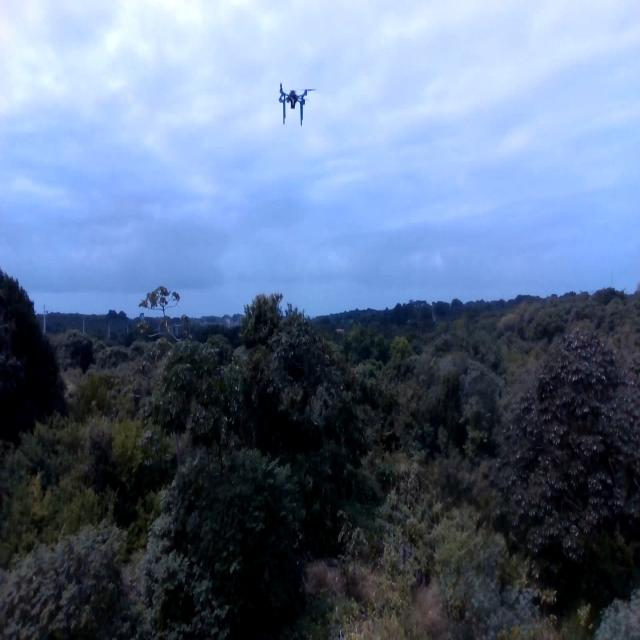-uav-: (274, 74, 319, 139)
